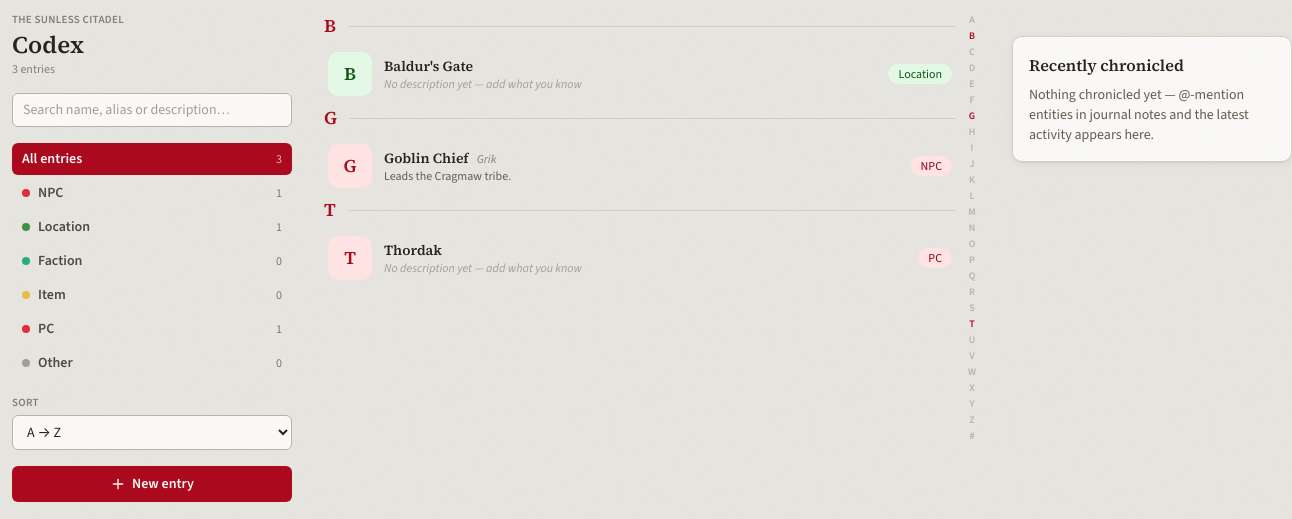
Test case: CampaignCodex rail filters (#840) › narrows by type filter
The image size is (1292, 519).
Click the button "NPC 1": click(26, 192) left=12, top=176, right=292, bottom=208
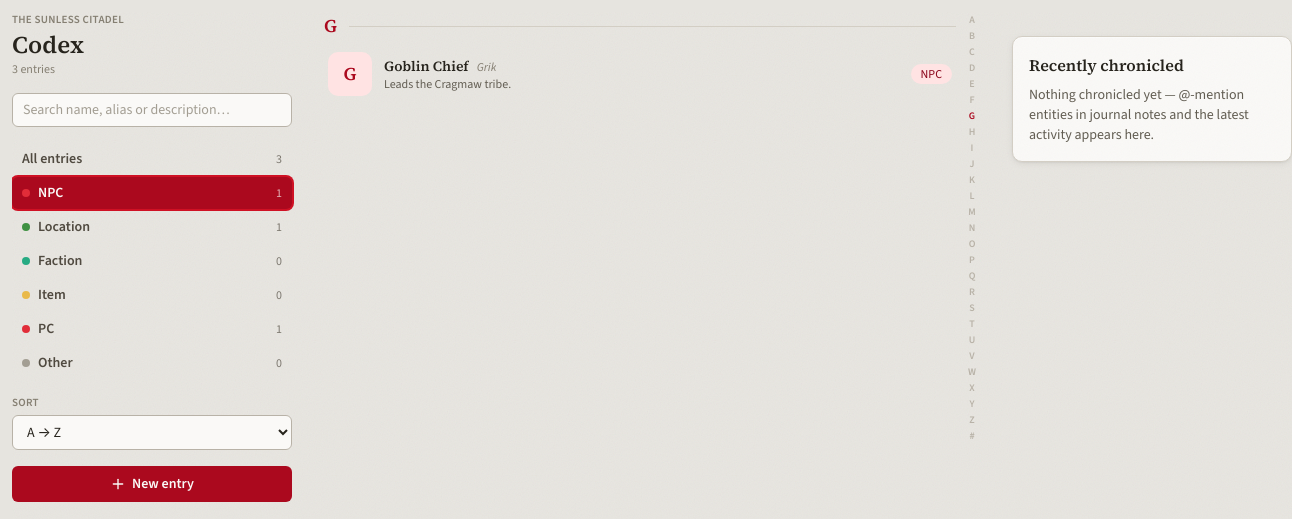
Check: the link "G Goblin Chief Grik Leads the Cragmaw tribe. NPC" is shown, box left=324, top=44, right=956, bottom=104
Check: the link "Thordak" is gone
Check: the link "Baldur's Gate" is gone
